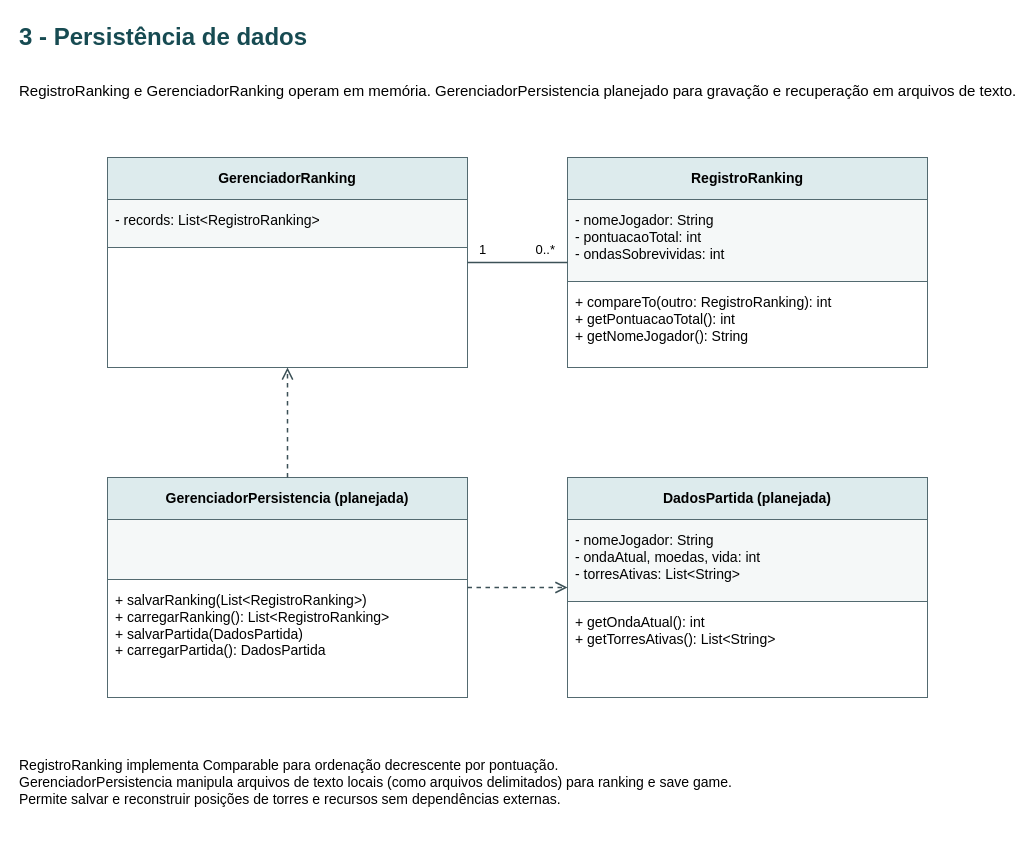
Image size: 1034x844. Some labels were removed from this diagram. The shapes that lost their labels are listed below. From the top down, each one's box as (x1, y1, x2, y2) in pixels, then its label:
(106, 246, 468, 368): + adicionarRegistro(nome, p, o) + getTopRegistros(limite: int): List
(106, 518, 468, 580): - caminhoRanking: String - caminhoPartida: String
